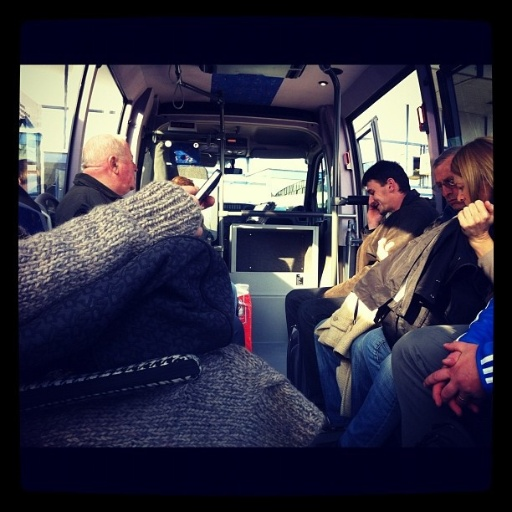hand: (430, 349, 478, 414), (179, 182, 215, 236), (455, 198, 495, 241), (363, 205, 385, 220)
